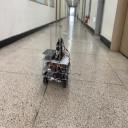cart: (43, 53, 70, 88)
